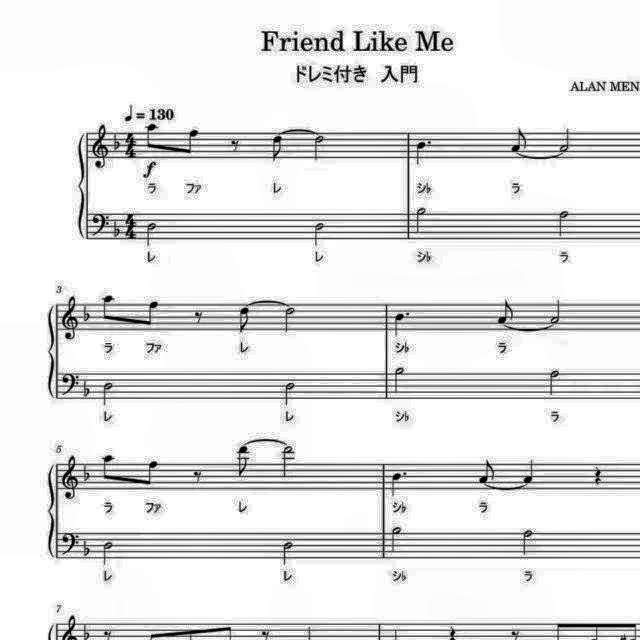Bass-clef: (59, 370, 81, 400), (59, 528, 81, 556), (90, 210, 112, 238)
Bemol: (80, 302, 96, 324), (80, 461, 96, 483), (110, 219, 124, 241), (80, 376, 94, 398), (111, 127, 122, 153), (80, 538, 92, 558)
Eighth-note: (139, 296, 163, 332), (138, 456, 162, 492), (179, 124, 201, 158), (508, 125, 532, 155), (476, 455, 500, 485), (494, 297, 518, 327), (234, 444, 254, 480), (98, 291, 119, 325), (98, 450, 119, 484), (235, 304, 255, 336), (268, 132, 288, 164), (142, 120, 162, 152)
Eighth-rest: (189, 304, 207, 328), (227, 134, 245, 154), (187, 466, 205, 486)
Half-note: (278, 444, 298, 482), (542, 366, 564, 398), (518, 523, 538, 557), (554, 207, 574, 241), (389, 364, 409, 396), (280, 304, 300, 336), (280, 377, 300, 408), (278, 538, 298, 568), (310, 219, 330, 249), (547, 295, 567, 325), (385, 526, 403, 558), (412, 206, 430, 237), (143, 218, 161, 248), (557, 125, 575, 155), (99, 378, 117, 408), (99, 539, 117, 569), (310, 133, 328, 163)
Quarter-dot: (412, 138, 436, 170), (385, 468, 409, 500), (392, 310, 416, 342)
Quarter-note: (520, 456, 540, 484)
Quarter-rest: (590, 463, 608, 489)
Treble-clef: (87, 120, 111, 172), (59, 454, 83, 504), (58, 295, 82, 343)
